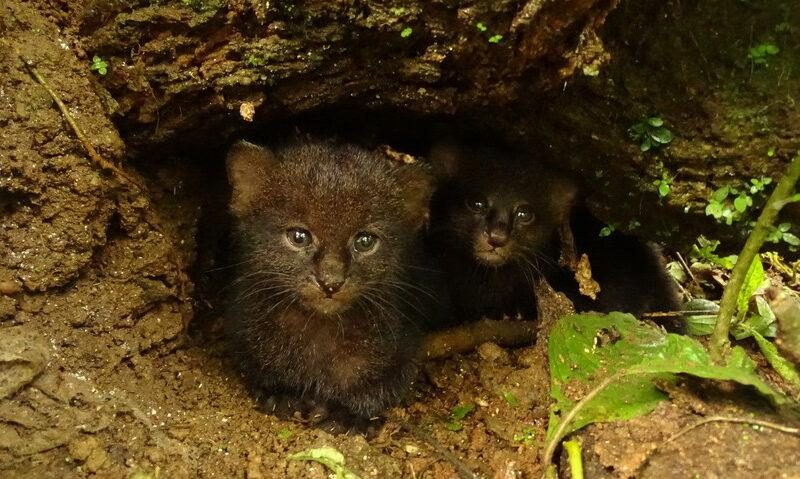Jaguarundi: (213, 130, 432, 427), (441, 137, 575, 314)
